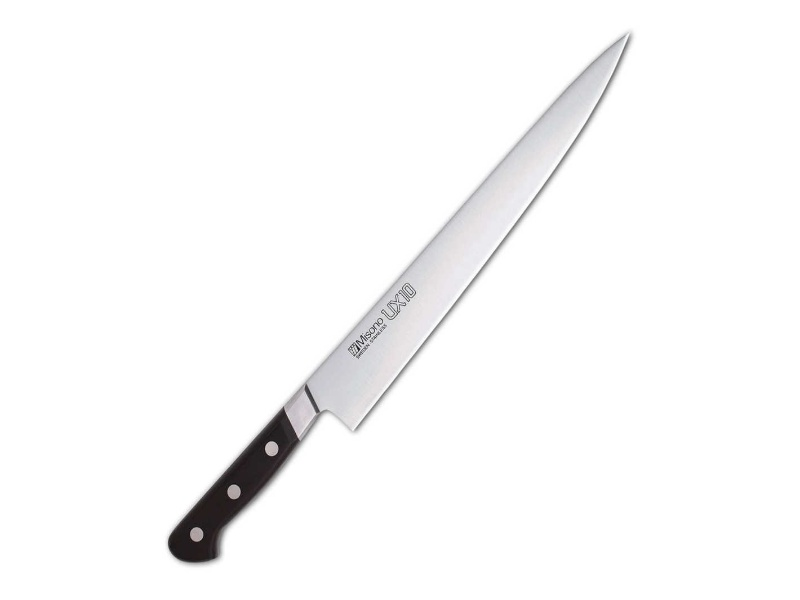knife: (166, 32, 631, 561)
